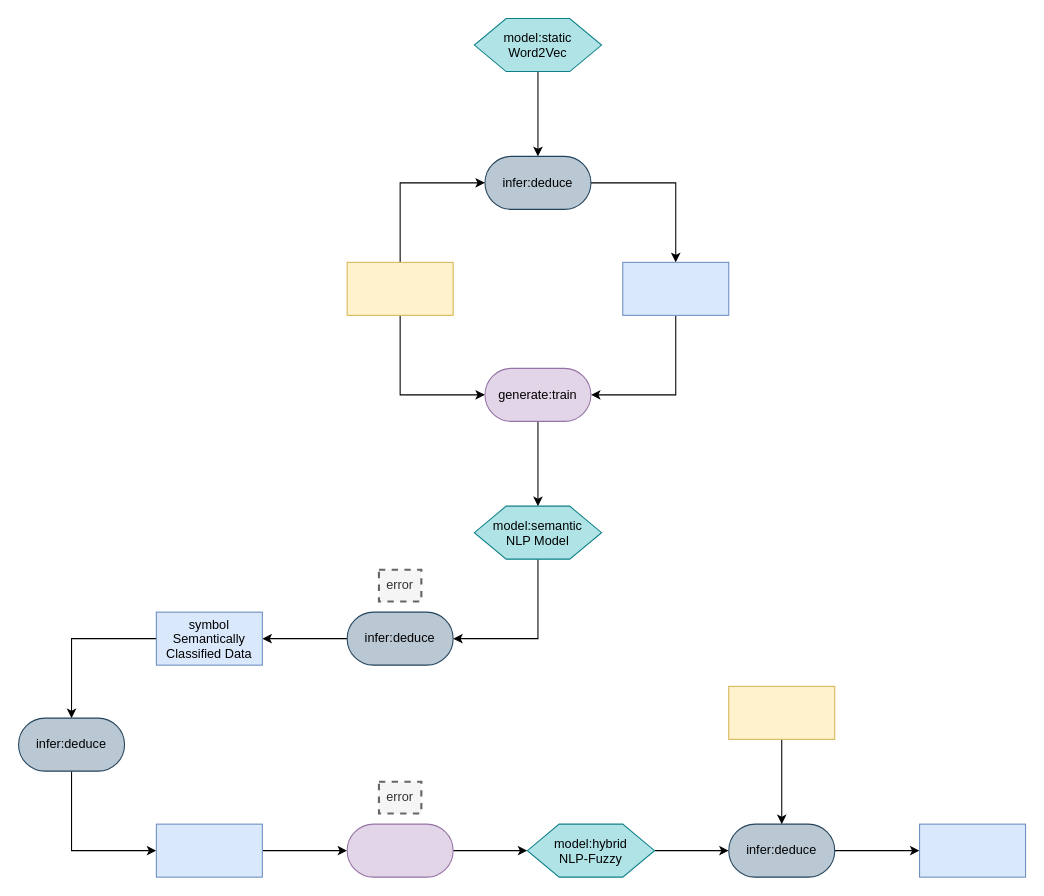
Some shapes in this 1044 by 896 pixel diagram are drawn without their labels. Each missing label, with the box of its shape:
data Annotated Dataset: (346, 261, 453, 315)
data Input Query: (728, 685, 835, 739)
generate:engineer: (346, 823, 453, 877)
symbol Fuzzy Rules: (155, 823, 262, 877)
symbol Recommendation: (918, 823, 1026, 877)
symbol Vectorized Representation: (622, 261, 729, 315)
